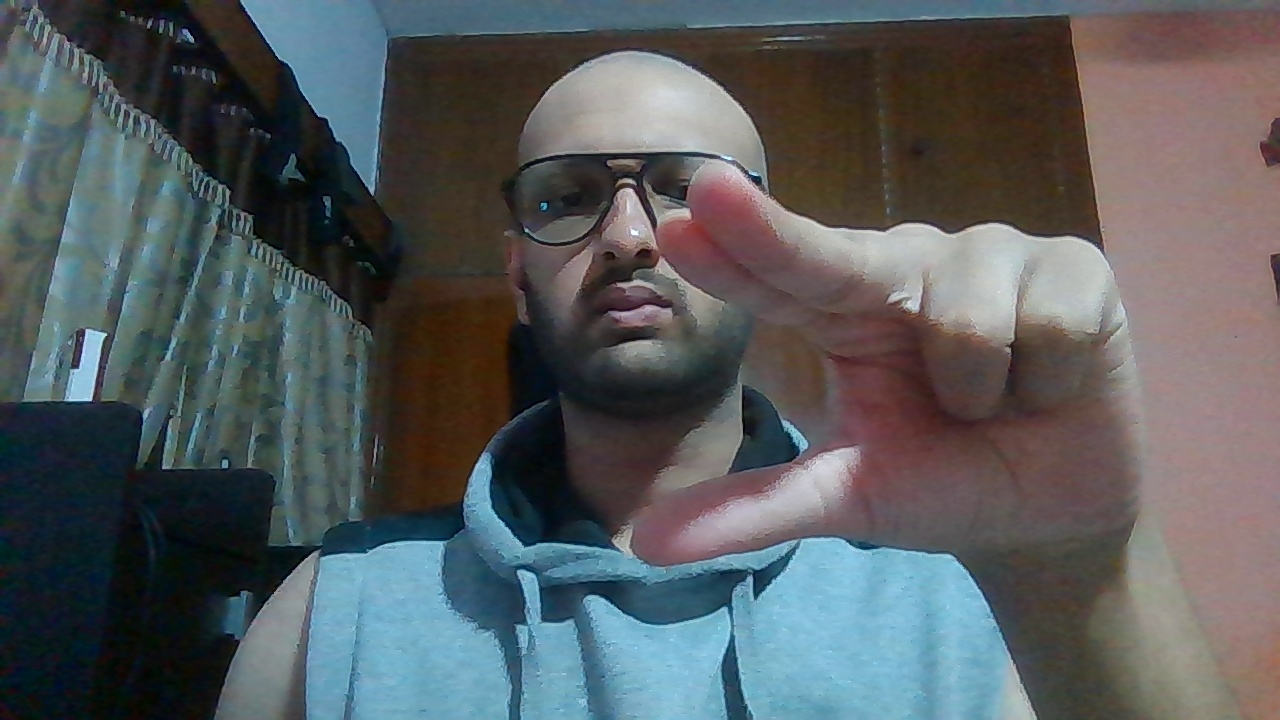No: (624, 158, 1162, 566)
